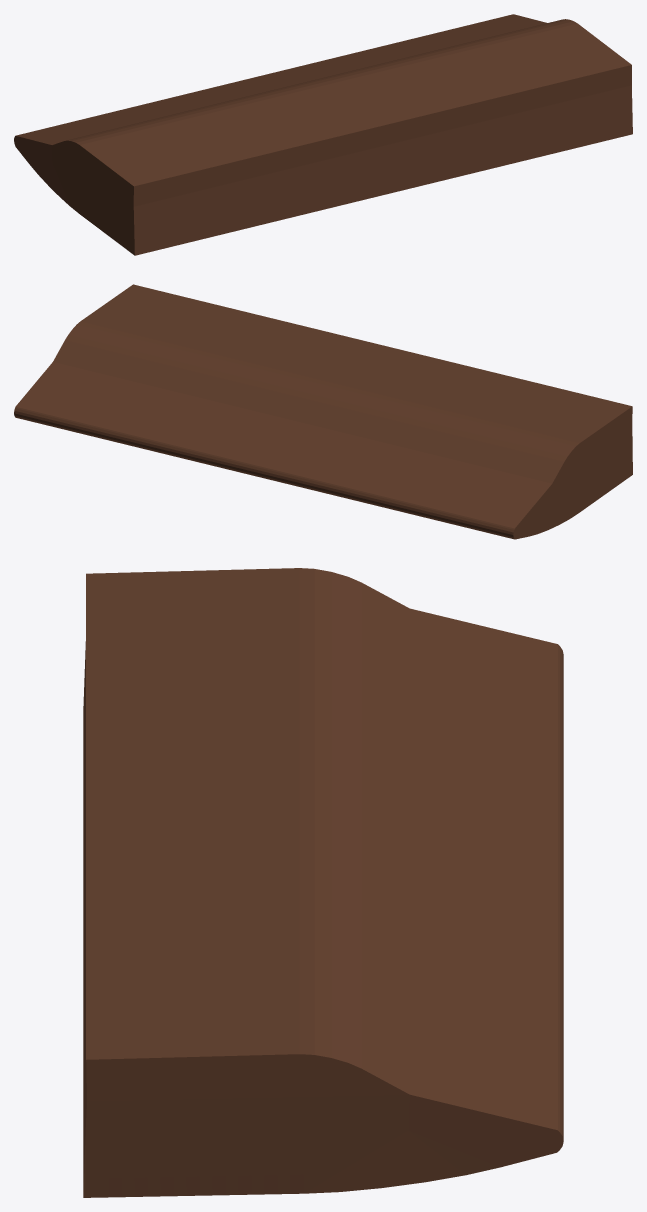
Rendered from AireAcondicionadoL2_JuanM_46871122.fbx.
3 renders of one model, top to bottom at view 1: azimuth 30°, elevation 25°; view 2: azimuth 150°, elevation 25°; view 3: azimuth 270°, elevation 25°, orthographic. The views are drawn at different scales.
Visible parts, largest first — view 1: aire; view 2: aire; view 3: aire.
Boxes of the visible parts, x1=… form: aire: x1=14, y1=14, x2=632, y2=255; aire: x1=14, y1=284, x2=632, y2=539; aire: x1=83, y1=568, x2=563, y2=1197.
Bounding box in the file's own units: 170 × 23.28 × 71.
1 material, 1 textured.
